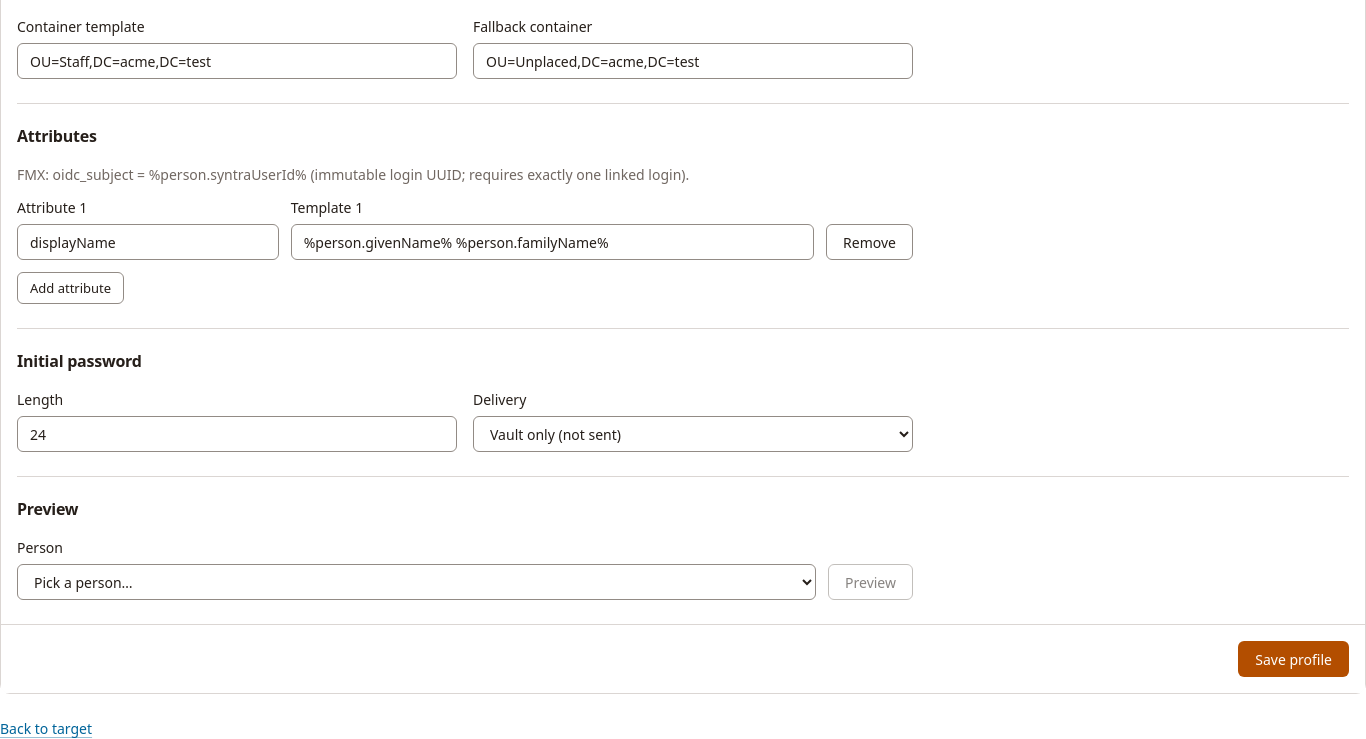
Scenario: AccountProfilePage › clears the preview after changing Length
(page scrolled)
Step 1. Select "Anna Novak" in the dropdown labelled "Person" → (417, 582), box [17,564,816,600]
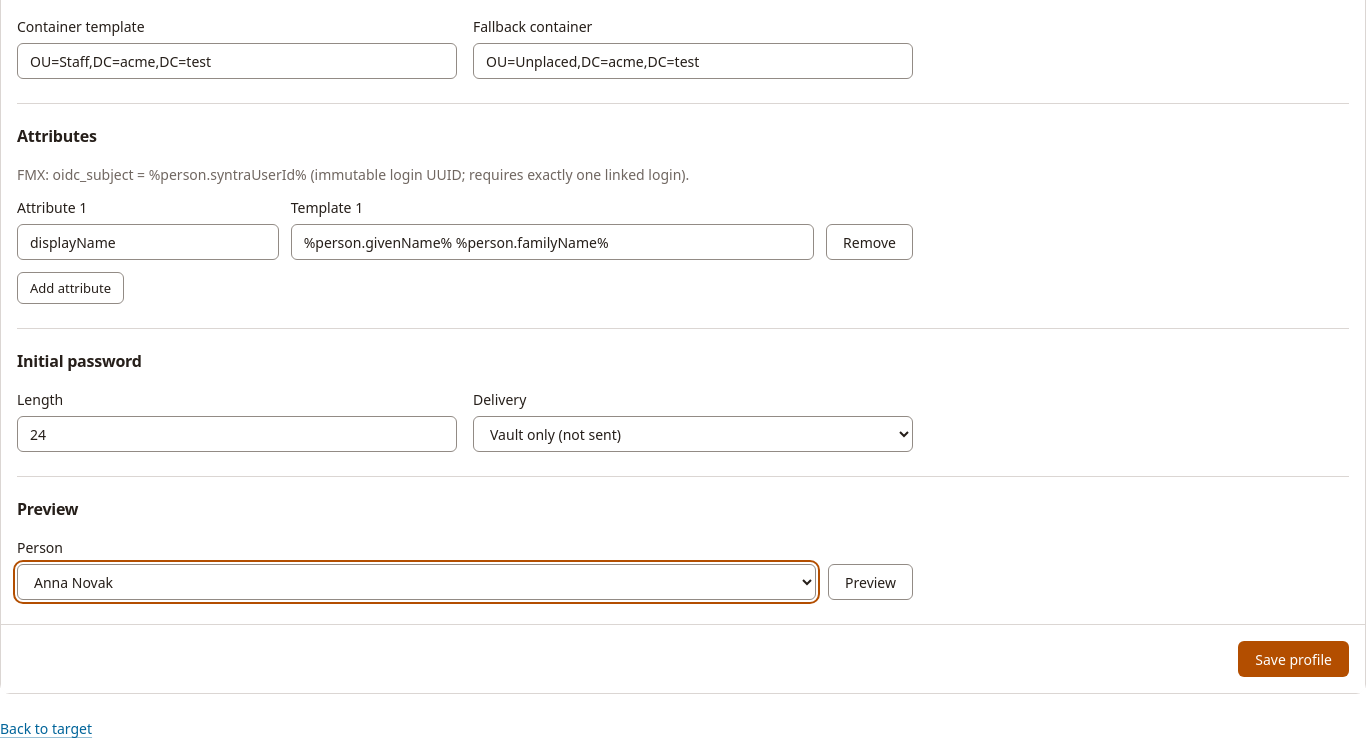
Step 2. Click the button "Preview" → (871, 582), box [828,564,913,600]
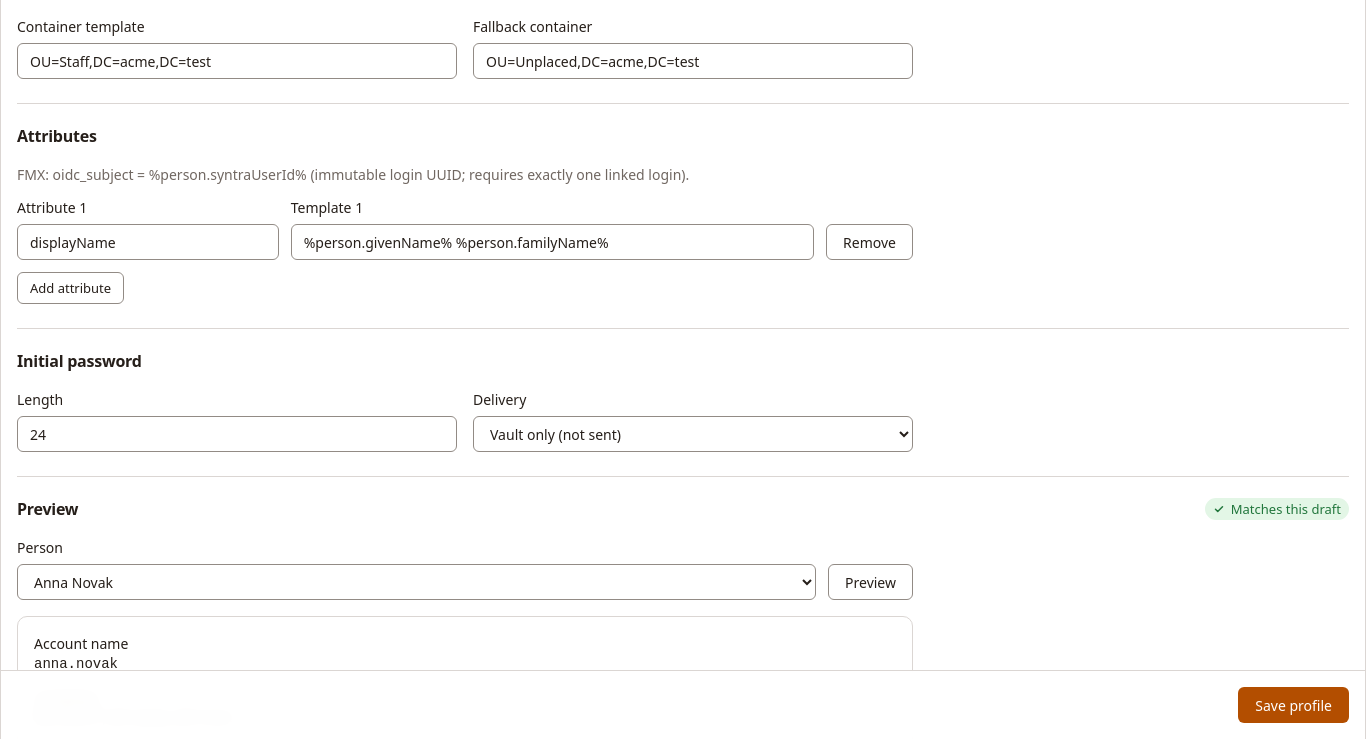
Result: the text "anna.novak" is shown at [34,656,118,672]
Step 3. Type "x" into the field labelled "Length" → (237, 434), box [17,416,457,452]
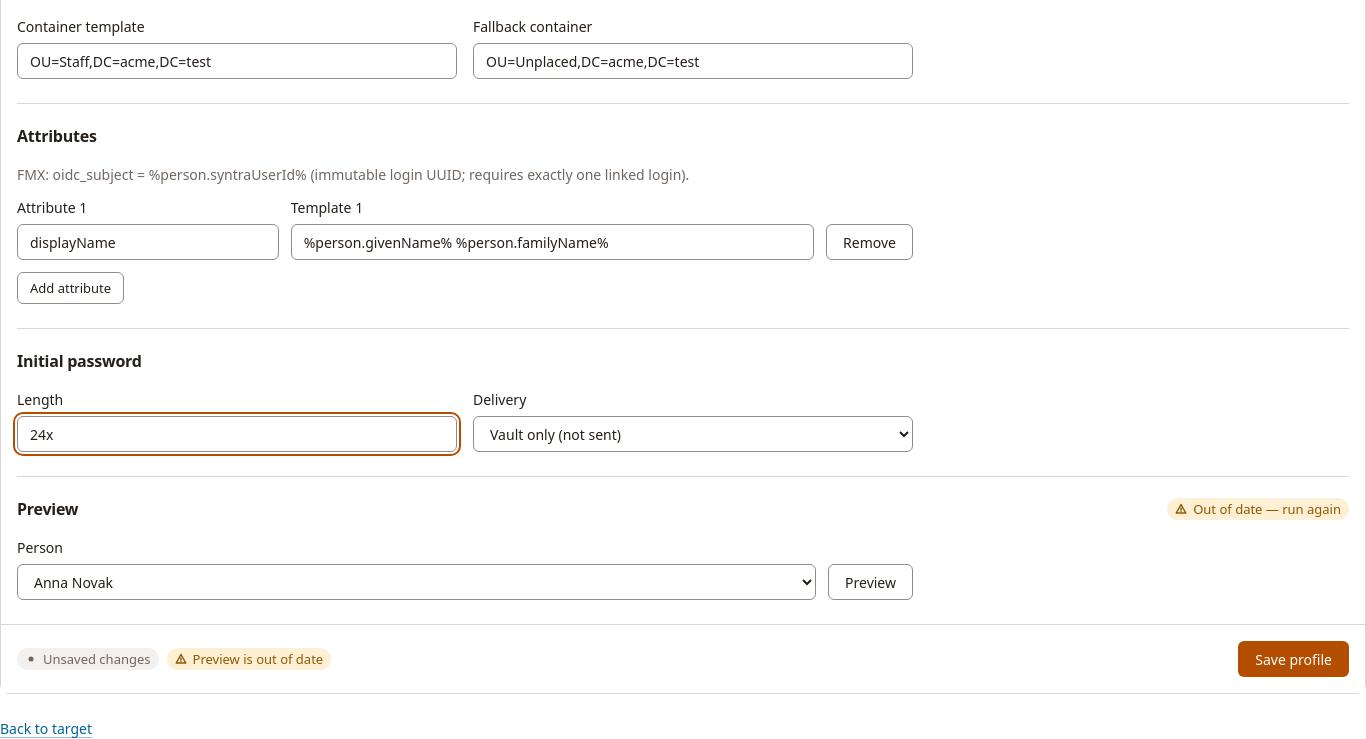
Result: the text "anna.novak" is gone
